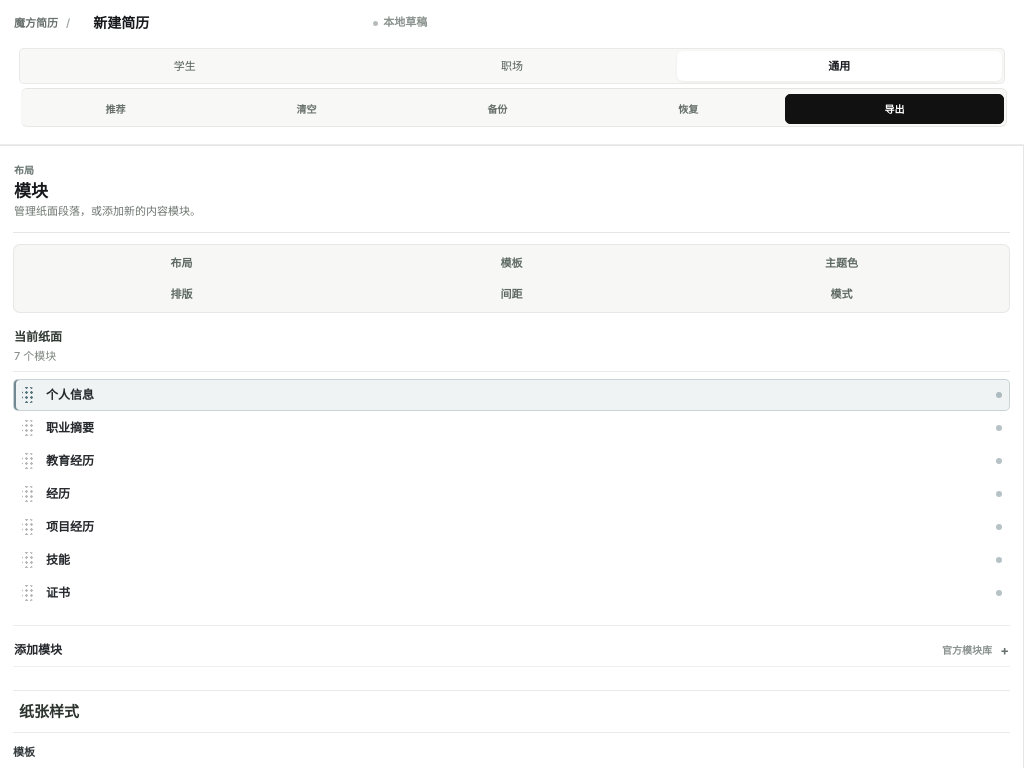
Scenario: App › switches identity safely without changing the file-style title
expect the field named "简历名称" holds "新建简历": met, box 85,11 -> 365,35
Step 1. Click the button "职场" → x=512, y=66, box 349,51 -> 675,81
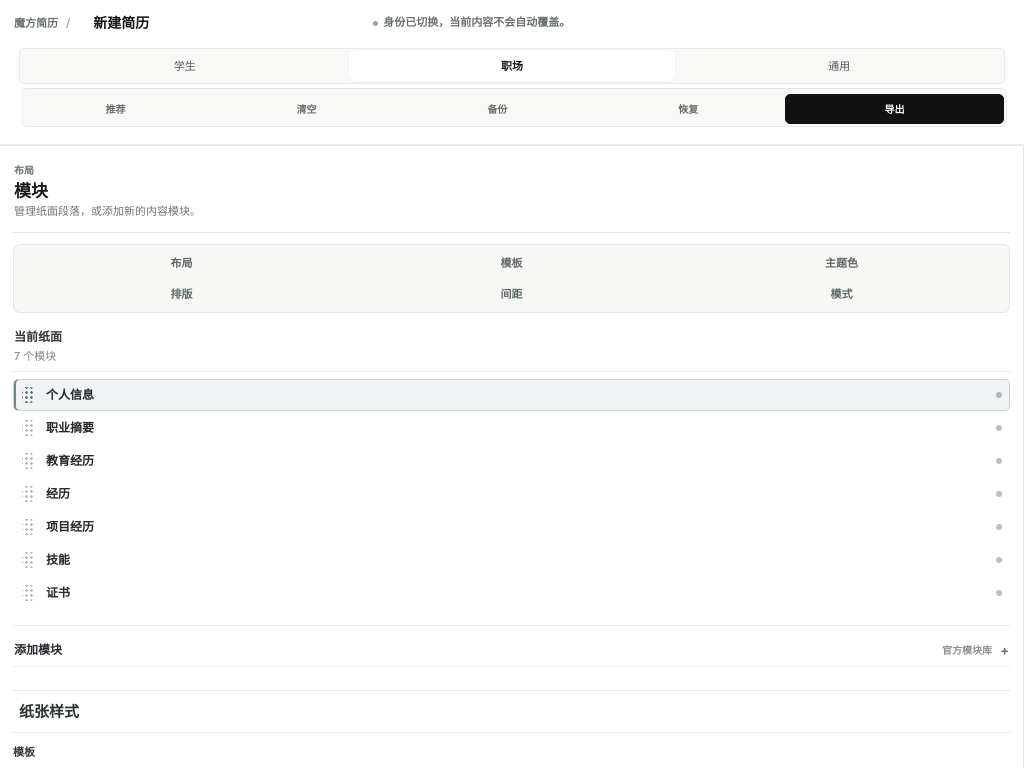
expect the field named "简历名称" holds "新建简历": met, box 85,11 -> 365,35
expect the message with class "topbar__status" reads "身份已切换，当前内容不会自动覆盖。": met, box 383,16 -> 570,30
Step 2. Click the button with aria-label "推荐模块" → x=116, y=109, box 21,94 -> 210,124
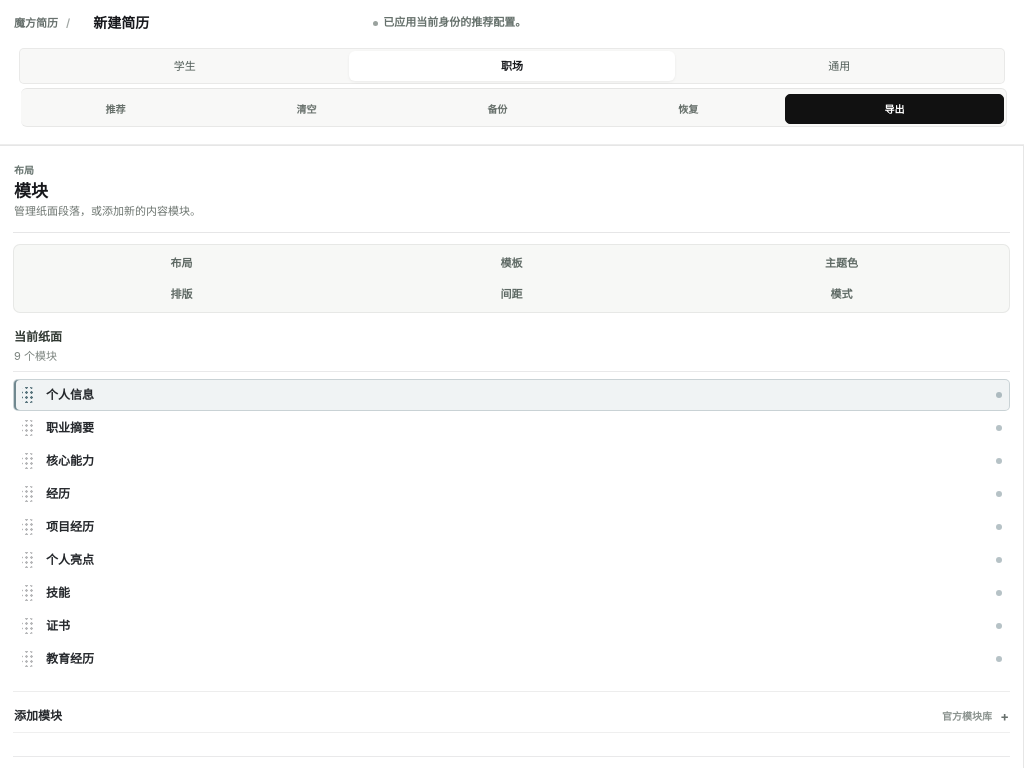
expect the message with class "topbar__status" reads "已应用当前身份的推荐配置。": met, box 383,16 -> 526,30
